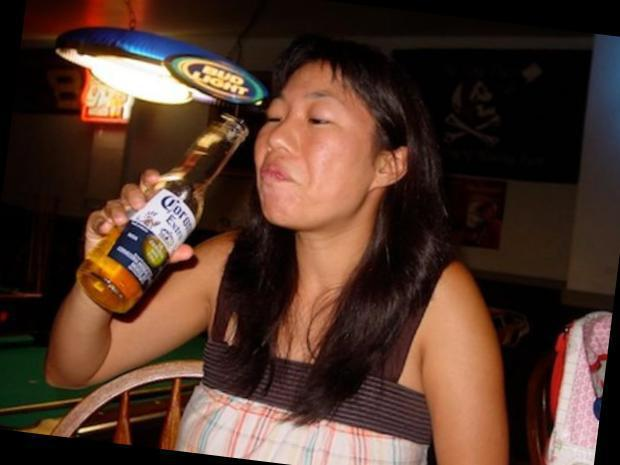Drunk: (257, 80, 362, 218)
